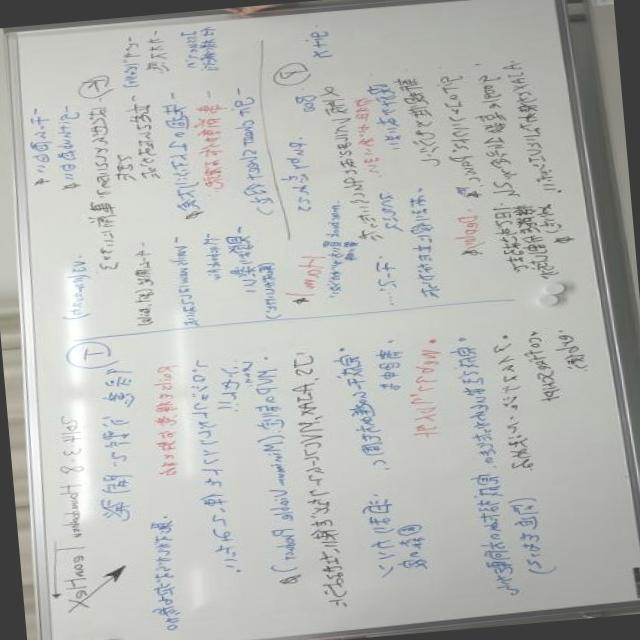White-board: (6, 0, 640, 640)
